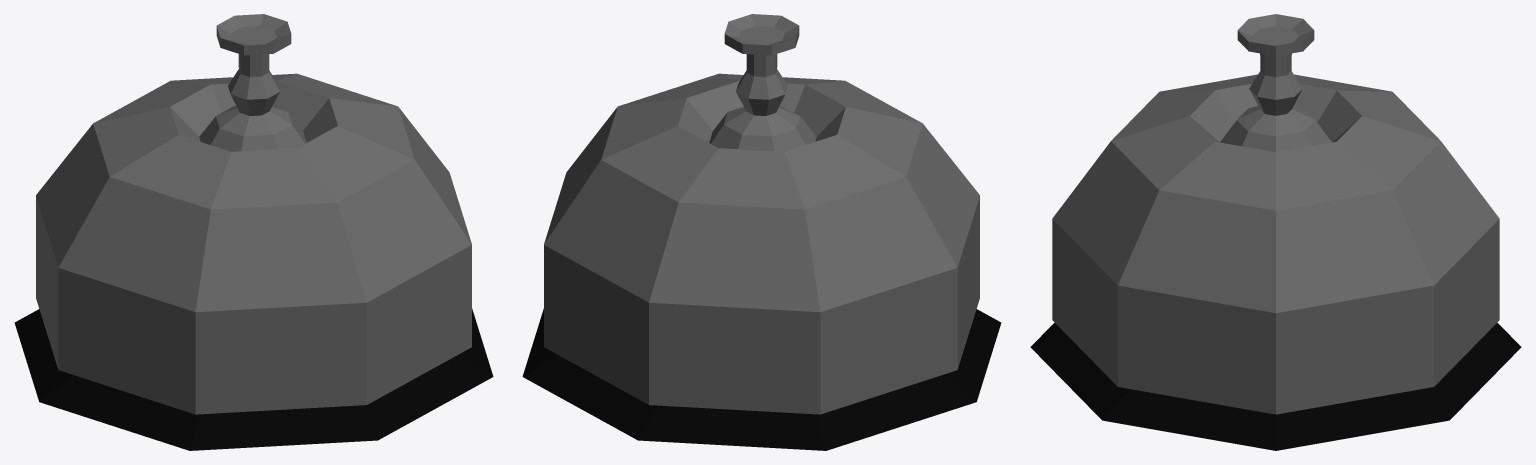
The model's file is MOD_Campanilla.fbx.
The picture shows the model from 3 angles, left to right: view 1: azimuth 30°, elevation 25°; view 2: azimuth 150°, elevation 25°; view 3: azimuth 270°, elevation 25°; orthographic projection.
Parts seen in each view (by area): view 1: Cylinder; view 2: Cylinder; view 3: Cylinder.
Part boxes in pixels (x1,y1,x2,y2): Cylinder: (14, 14, 493, 450); Cylinder: (522, 14, 1001, 450); Cylinder: (1030, 14, 1521, 450).
Size of the model in its own units: 220 by 156 by 220.
